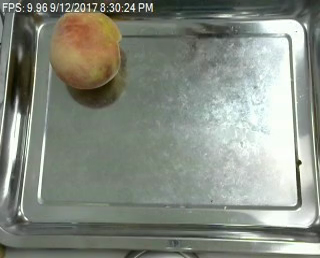Peach: (48, 6, 122, 90)
